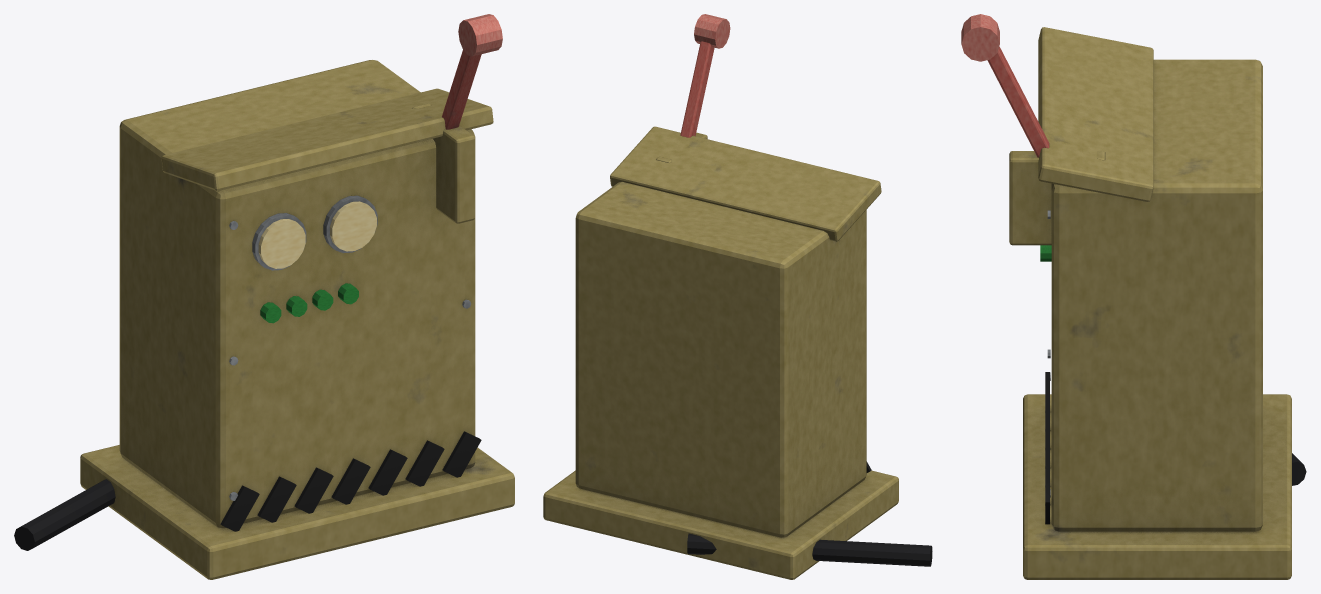
The model's file is poi_winch_box.glb.
3 renders of one model, left to right at view 1: azimuth 30°, elevation 25°; view 2: azimuth 150°, elevation 25°; view 3: azimuth 270°, elevation 25°, orthographic. The views are drawn at different scales.
Parts seen in each view (by area): view 1: poi_winch_box; view 2: poi_winch_box; view 3: poi_winch_box.
Boxes of the visible parts, x1,y1,x2,y2 form: poi_winch_box: [14, 14, 514, 579]; poi_winch_box: [543, 14, 932, 579]; poi_winch_box: [961, 14, 1306, 579].
Bounding box in the file's own units: 1.31 × 1.53 × 0.898.
7 materials, 7 textured.
